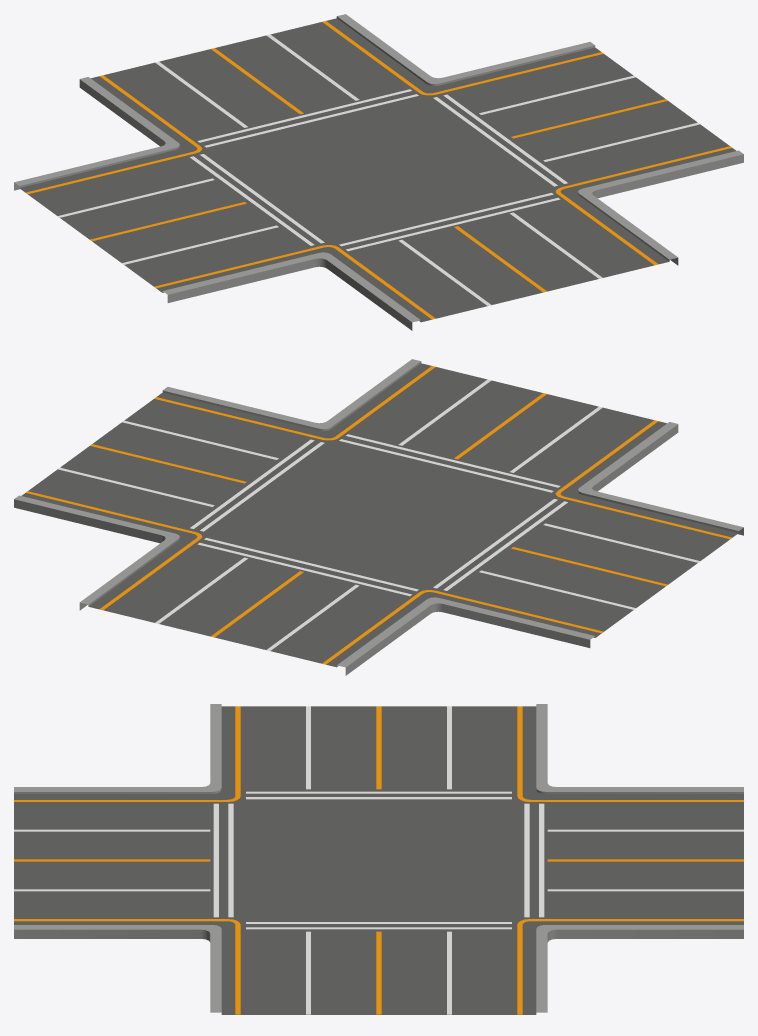
Rendered from Road_B_2L_2_6.fbx.
The picture shows the model from 3 angles, top to bottom: view 1: azimuth 30°, elevation 25°; view 2: azimuth 150°, elevation 25°; view 3: azimuth 270°, elevation 25°; orthographic projection. The views are drawn at different scales.
Parts seen in each view (by area): view 1: Road_B_2L_2_6; view 2: Road_B_2L_2_6; view 3: Road_B_2L_2_6.
Part boxes in pixels (<box>): Road_B_2L_2_6: <box>14,14,743,330</box>; Road_B_2L_2_6: <box>14,359,743,675</box>; Road_B_2L_2_6: <box>14,704,743,1014</box>.
Size of the model in its own units: 2975 by 41.48 by 2975.
